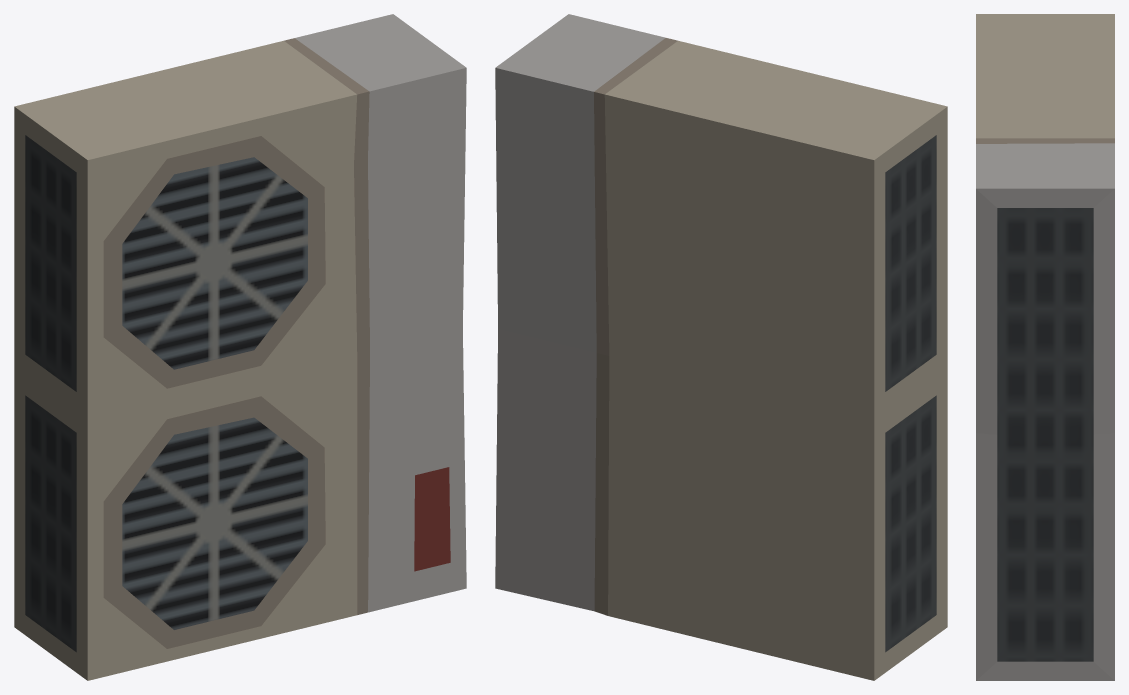
File: SM_Prop_Airconditioner_Optimized_04.fbx
3 views of the same model, side by side, from view 1: azimuth 30°, elevation 25°; view 2: azimuth 150°, elevation 25°; view 3: azimuth 270°, elevation 25° (orthographic). The views are drawn at different scales.
Parts seen in each view (by area): view 1: SM_Prop_Airconditioner_Optimized_04; view 2: SM_Prop_Airconditioner_Optimized_04; view 3: SM_Prop_Airconditioner_Optimized_04.
Boxes of the visible parts, <box> form: SM_Prop_Airconditioner_Optimized_04: <box>14,14,466,680</box>; SM_Prop_Airconditioner_Optimized_04: <box>495,14,947,680</box>; SM_Prop_Airconditioner_Optimized_04: <box>976,14,1114,680</box>.
Size of the model in its own units: 107 by 141 by 36.07.
